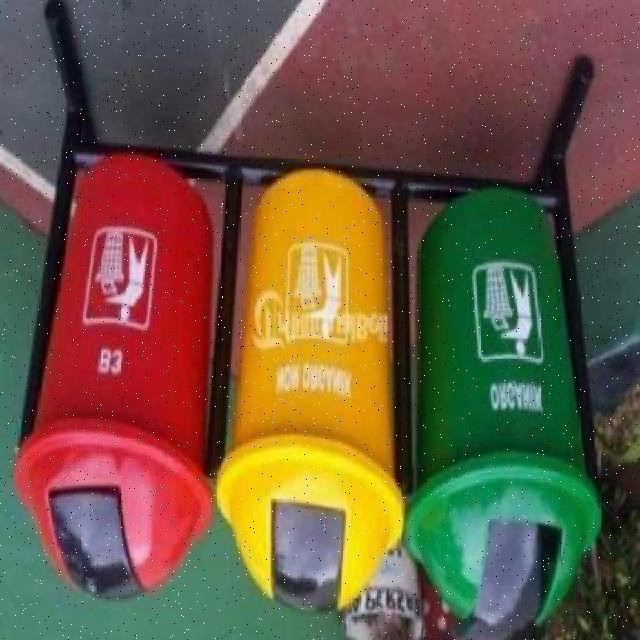garbage container: (15, 141, 217, 618), (406, 175, 608, 640), (213, 170, 407, 632)
